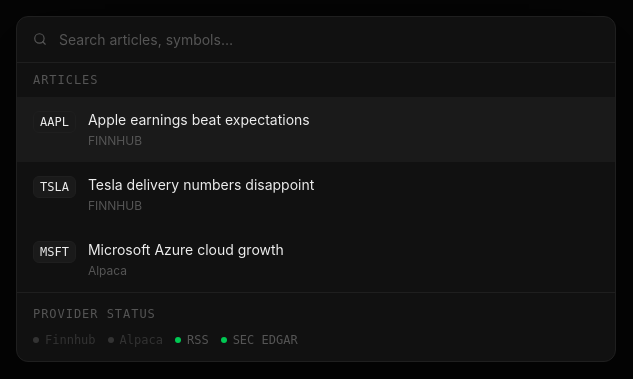
Test: CommandPalette › search filtering › filters results as the user types
Type "Apple" into the field with test id "command-palette-input" at (329, 39), box top-left (59, 28), bottom-right (599, 50)
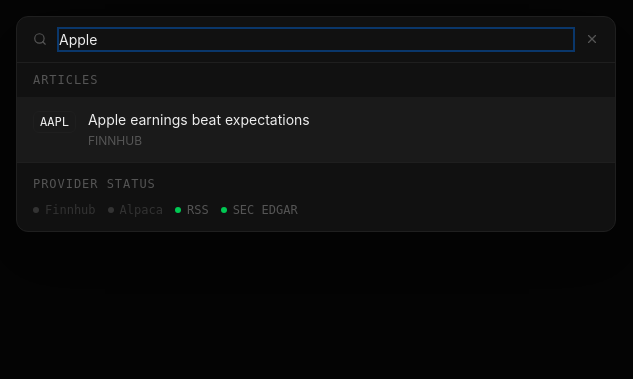
Check: the text "Apple earnings beat expectations" is shown, box top-left (88, 110), bottom-right (310, 128)
Check: the button "Tesla delivery numbers disappoint" is gone
